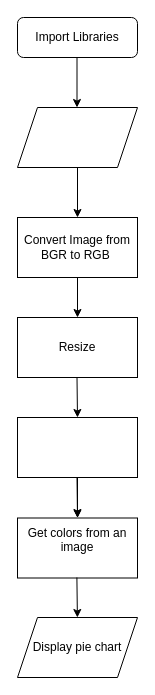
Image size: 155x695. Some labels were removed from this diagram. Here are the shapes that lost their labels. From the top down, the centre of each, then its label:
pixel 77 137: Read the image
pixel 77 447: RGB to HEX
